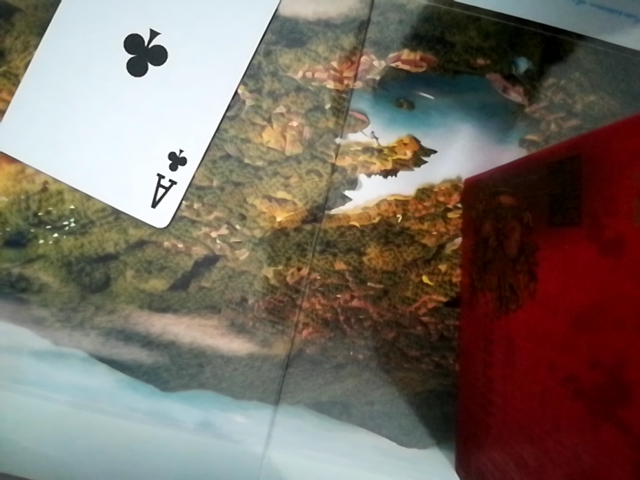mh a: (3, 0, 301, 235)
